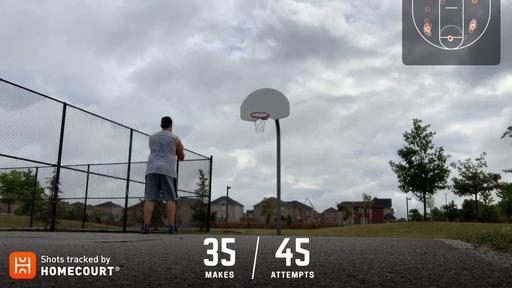human: (144, 115, 186, 238)
rim: (246, 112, 274, 137)
